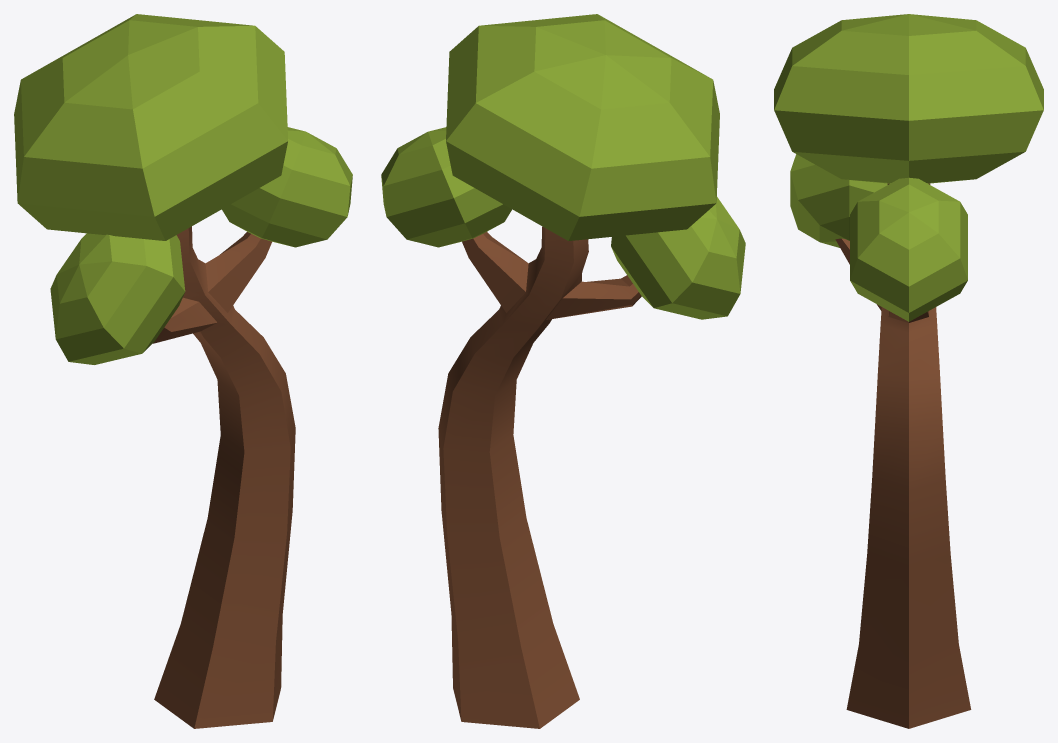
File: Tree1.fbx
3 renders of one model, left to right at view 1: azimuth 30°, elevation 25°; view 2: azimuth 150°, elevation 25°; view 3: azimuth 270°, elevation 25°, orthographic. The views are drawn at different scales.
Visible parts, largest first — view 1: pSphere2, pCylinder1, pSphere3, pSphere1; view 2: pSphere2, pCylinder1, pSphere3, pSphere1; view 3: pSphere2, pCylinder1, pSphere1, pSphere3.
Boxes of the visible parts, x1,y1,x2,y2 form: pSphere2: [14, 14, 288, 240]; pCylinder1: [153, 226, 295, 728]; pSphere3: [50, 233, 185, 364]; pSphere1: [222, 127, 352, 247]; pSphere2: [446, 14, 719, 240]; pCylinder1: [438, 226, 641, 728]; pSphere3: [611, 196, 745, 319]; pSphere1: [381, 127, 511, 247]; pSphere2: [774, 14, 1043, 183]; pCylinder1: [835, 183, 971, 728]; pSphere1: [850, 177, 967, 321]; pSphere3: [790, 154, 887, 247].
Size of the model in its own units: 3.83 by 7.45 by 2.78.
